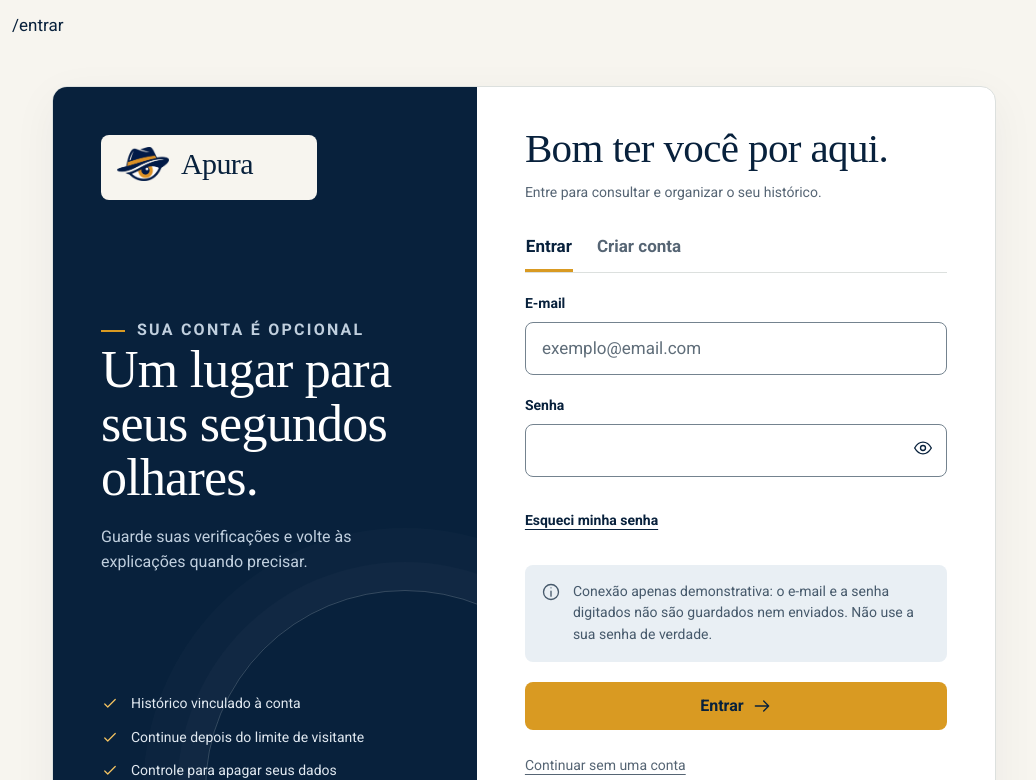
Test: entrar › mostrar a senha: o botão mantém o nome e muda só o estado
This screenshot has width=1036, height=780.
Step 1. Type "uma-senha-longa-1" into the password field labelled "Senha" → (736, 451), box x1=525 y1=424 x2=947 y2=477
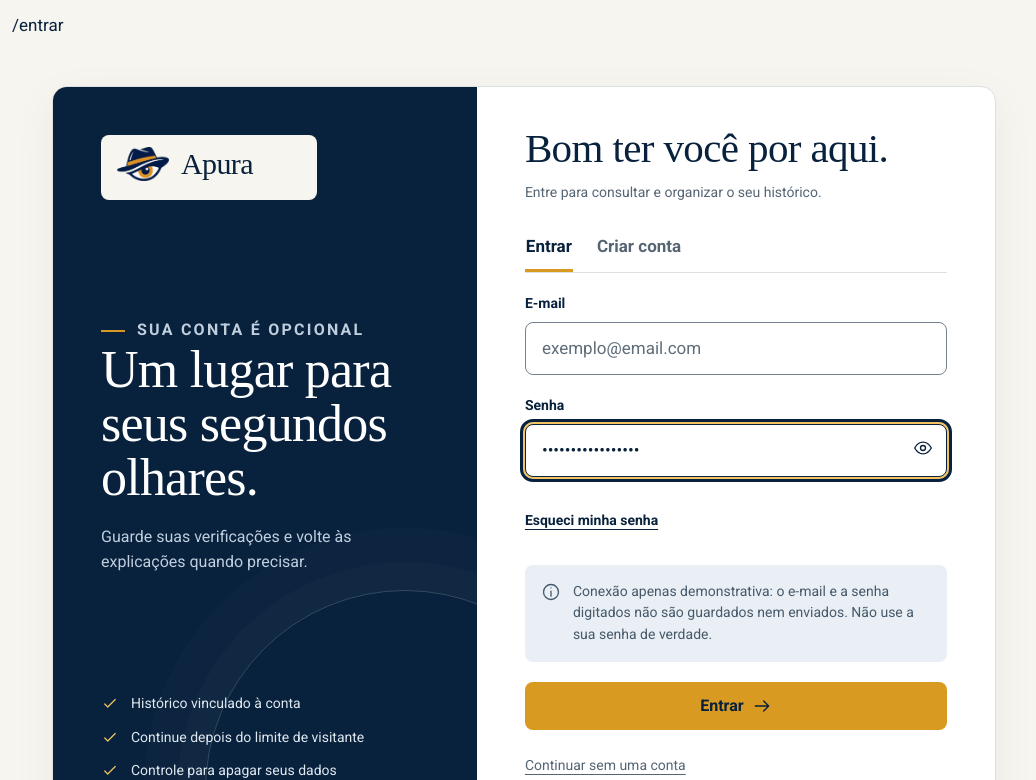
Step 2. Click the button named "Mostrar senha" → click(923, 448), box x1=899 y1=424 x2=947 y2=472
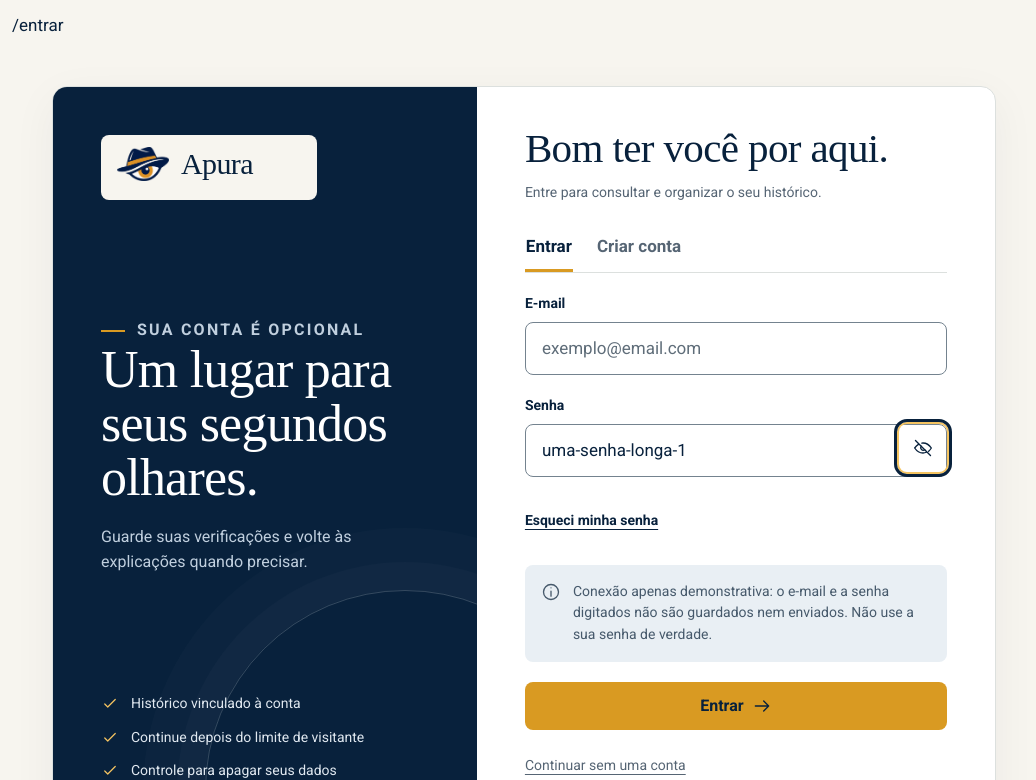
Expected: the field labelled "Senha" shows its text, x1=525 y1=424 x2=947 y2=477
